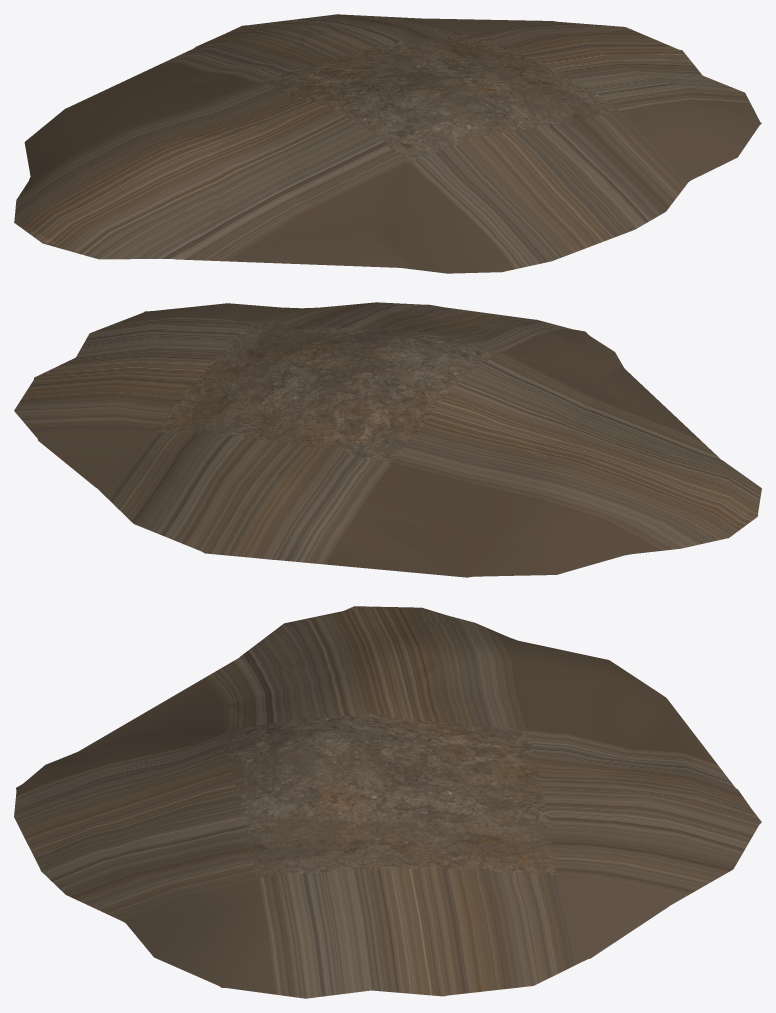
File: ground_un_dlc2_w_mud01_01.gltf
The picture shows the model from 3 angles, top to bottom: view 1: azimuth 30°, elevation 25°; view 2: azimuth 150°, elevation 25°; view 3: azimuth 270°, elevation 25°; orthographic projection. The views are drawn at different scales.
Visible parts, largest first — view 1: um_ground_un_dlc2_w_mud01_01_model_lod0Shape:ground_un_dlc2_, um_ground_un_dlc2_w_mud01_01_model_lod1Shape:ground_un_dlc2_, um_ground_un_dlc2_w_mud01_01_model_lod2Shape:ground_un_dlc2_; view 2: um_ground_un_dlc2_w_mud01_01_model_lod1Shape:ground_un_dlc2_, um_ground_un_dlc2_w_mud01_01_model_lod0Shape:ground_un_dlc2_, um_ground_un_dlc2_w_mud01_01_model_lod2Shape:ground_un_dlc2_; view 3: um_ground_un_dlc2_w_mud01_01_model_lod0Shape:ground_un_dlc2_, um_ground_un_dlc2_w_mud01_01_model_lod1Shape:ground_un_dlc2_, um_ground_un_dlc2_w_mud01_01_model_lod2Shape:ground_un_dlc2_.
Boxes of the visible parts, x1,y1,x2,y2 form: um_ground_un_dlc2_w_mud01_01_model_lod0Shape:ground_un_dlc2_: [14, 14, 755, 273]; um_ground_un_dlc2_w_mud01_01_model_lod1Shape:ground_un_dlc2_: [14, 19, 759, 273]; um_ground_un_dlc2_w_mud01_01_model_lod2Shape:ground_un_dlc2_: [14, 18, 761, 271]; um_ground_un_dlc2_w_mud01_01_model_lod1Shape:ground_un_dlc2_: [31, 303, 761, 576]; um_ground_un_dlc2_w_mud01_01_model_lod0Shape:ground_un_dlc2_: [14, 302, 724, 575]; um_ground_un_dlc2_w_mud01_01_model_lod2Shape:ground_un_dlc2_: [34, 304, 758, 577]; um_ground_un_dlc2_w_mud01_01_model_lod0Shape:ground_un_dlc2_: [14, 612, 759, 995]; um_ground_un_dlc2_w_mud01_01_model_lod1Shape:ground_un_dlc2_: [14, 608, 737, 998]; um_ground_un_dlc2_w_mud01_01_model_lod2Shape:ground_un_dlc2_: [16, 606, 761, 996].
Size of what is drawn, in the model's own units: 14.32 by 1.31 by 11.59.
1 material, 1 textured.
